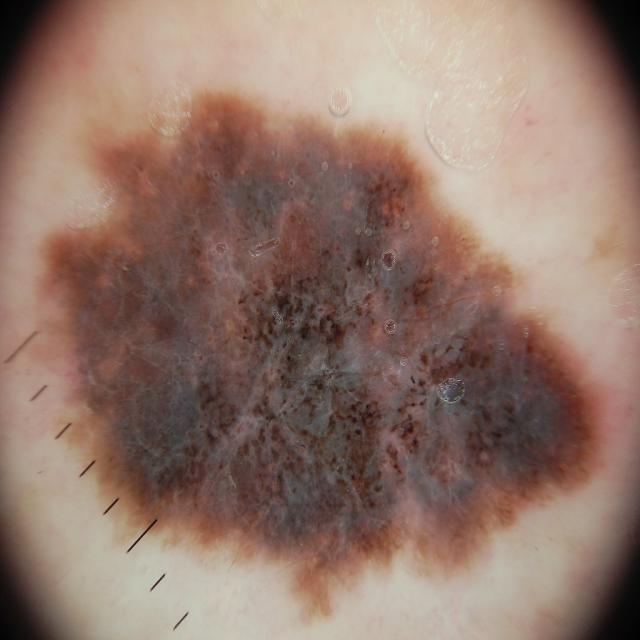Skin-Cancer Melanoma: (19, 58, 640, 567)
